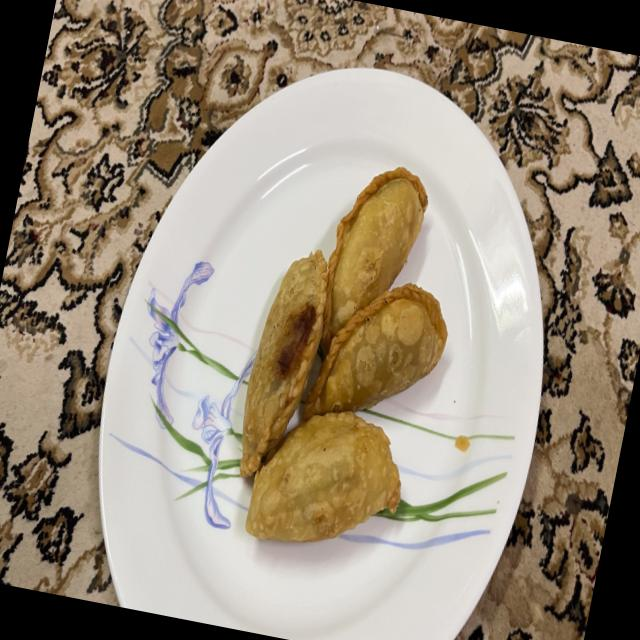karipap: (246, 412, 401, 542), (240, 250, 328, 477), (321, 168, 428, 353), (304, 283, 447, 419)
